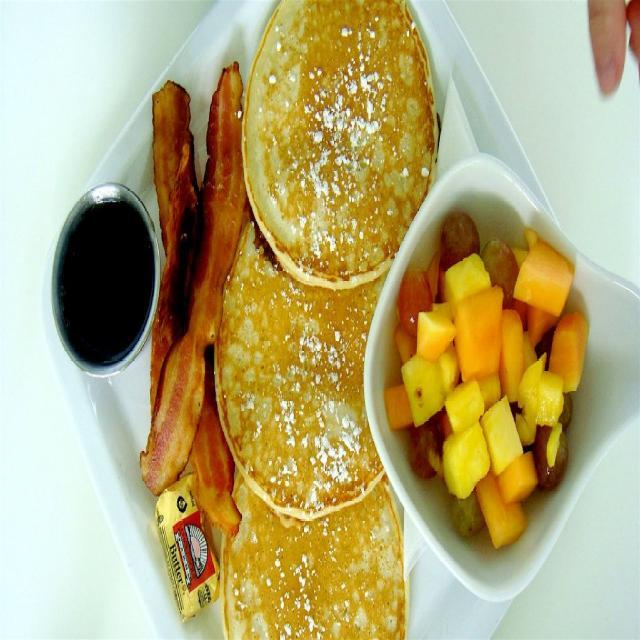Pancake: (231, 16, 443, 277), (213, 220, 390, 524), (221, 478, 410, 640)
